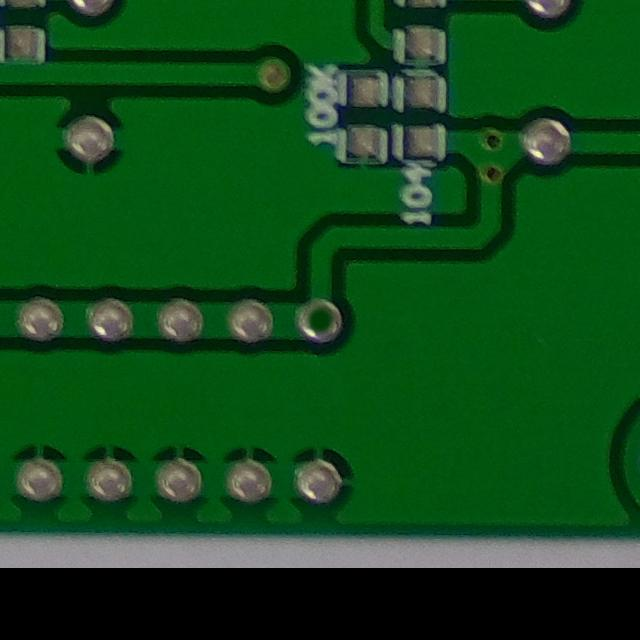missing_hole: (282, 286, 358, 354)
